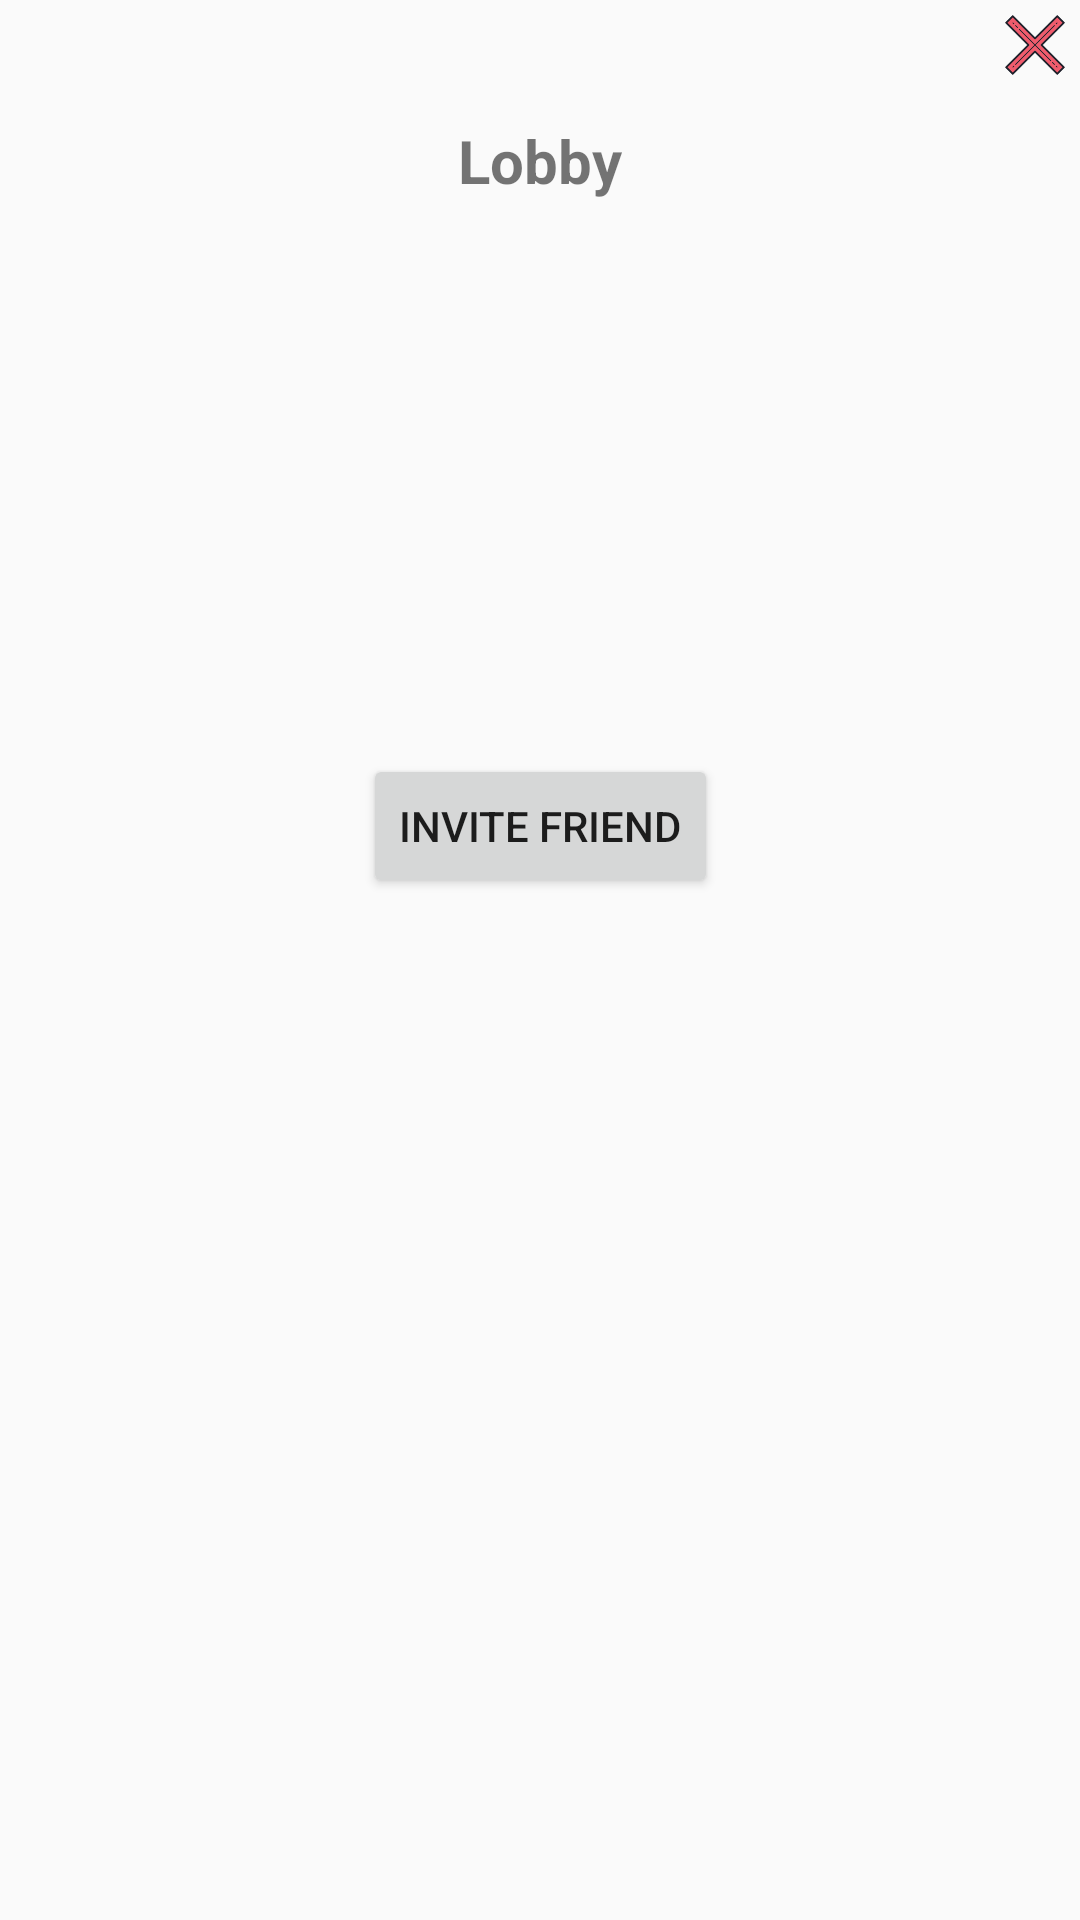

Where to tap for icons on this 1080*1920 app screen, as point (x, y):
close: point (1035, 45)
